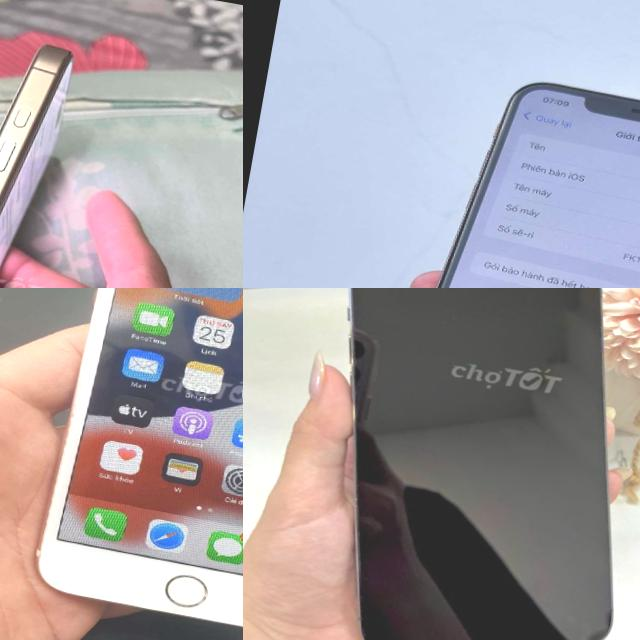gen_14: (270, 288, 640, 640)
gen_16: (0, 12, 94, 288)
gen_6: (28, 288, 243, 640)
gen_x_xs: (338, 26, 640, 288)
